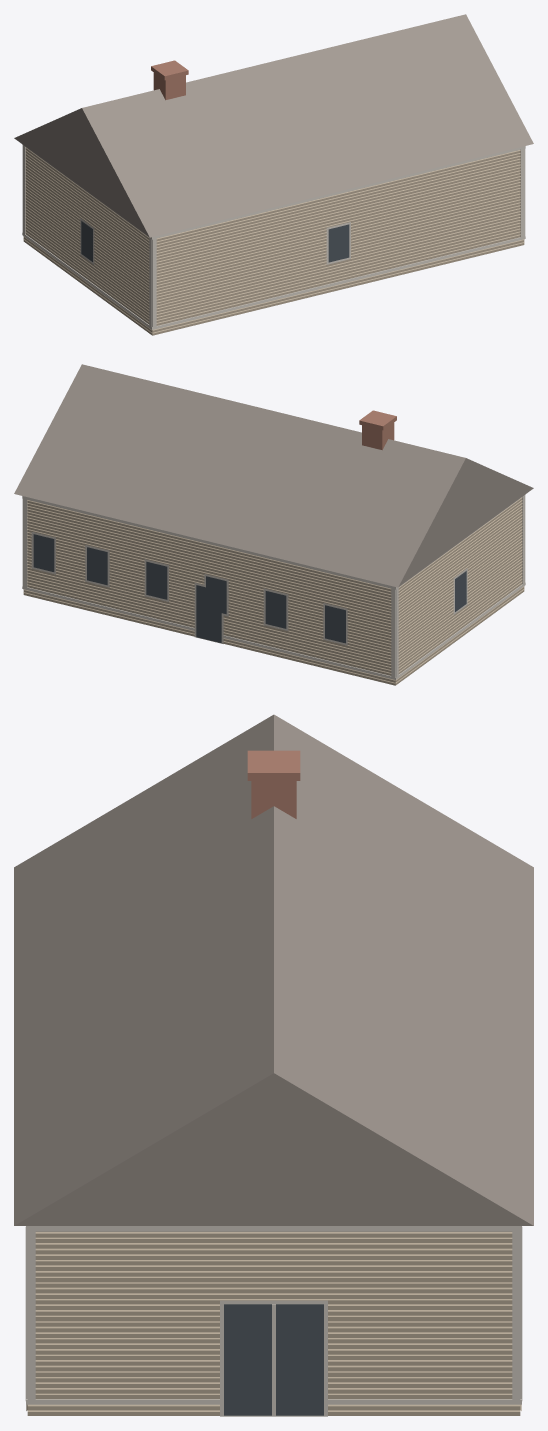
The model's file is old_bank_building__frame_1834.glb.
The picture shows the model from 3 angles, top to bottom: view 1: azimuth 30°, elevation 25°; view 2: azimuth 150°, elevation 25°; view 3: azimuth 270°, elevation 25°; orthographic projection. The views are drawn at different scales.
Visible parts, largest first — view 1: old_bank_building__frame_1834; view 2: old_bank_building__frame_1834; view 3: old_bank_building__frame_1834.
Boxes of the visible parts, x1=… form: old_bank_building__frame_1834: x1=14, y1=14, x2=533, y2=335; old_bank_building__frame_1834: x1=14, y1=364, x2=533, y2=685; old_bank_building__frame_1834: x1=14, y1=714, x2=533, y2=1416.
Size of the model in its own units: 15.74 by 7.84 by 9.64.
